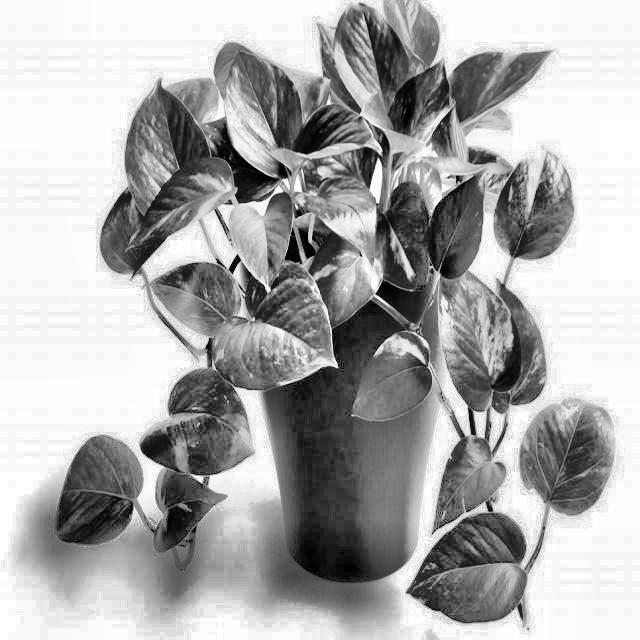plants: (108, 39, 574, 583)
